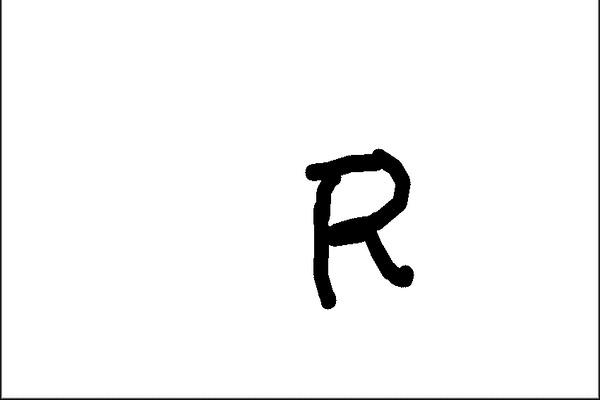R: (299, 138, 431, 318)
